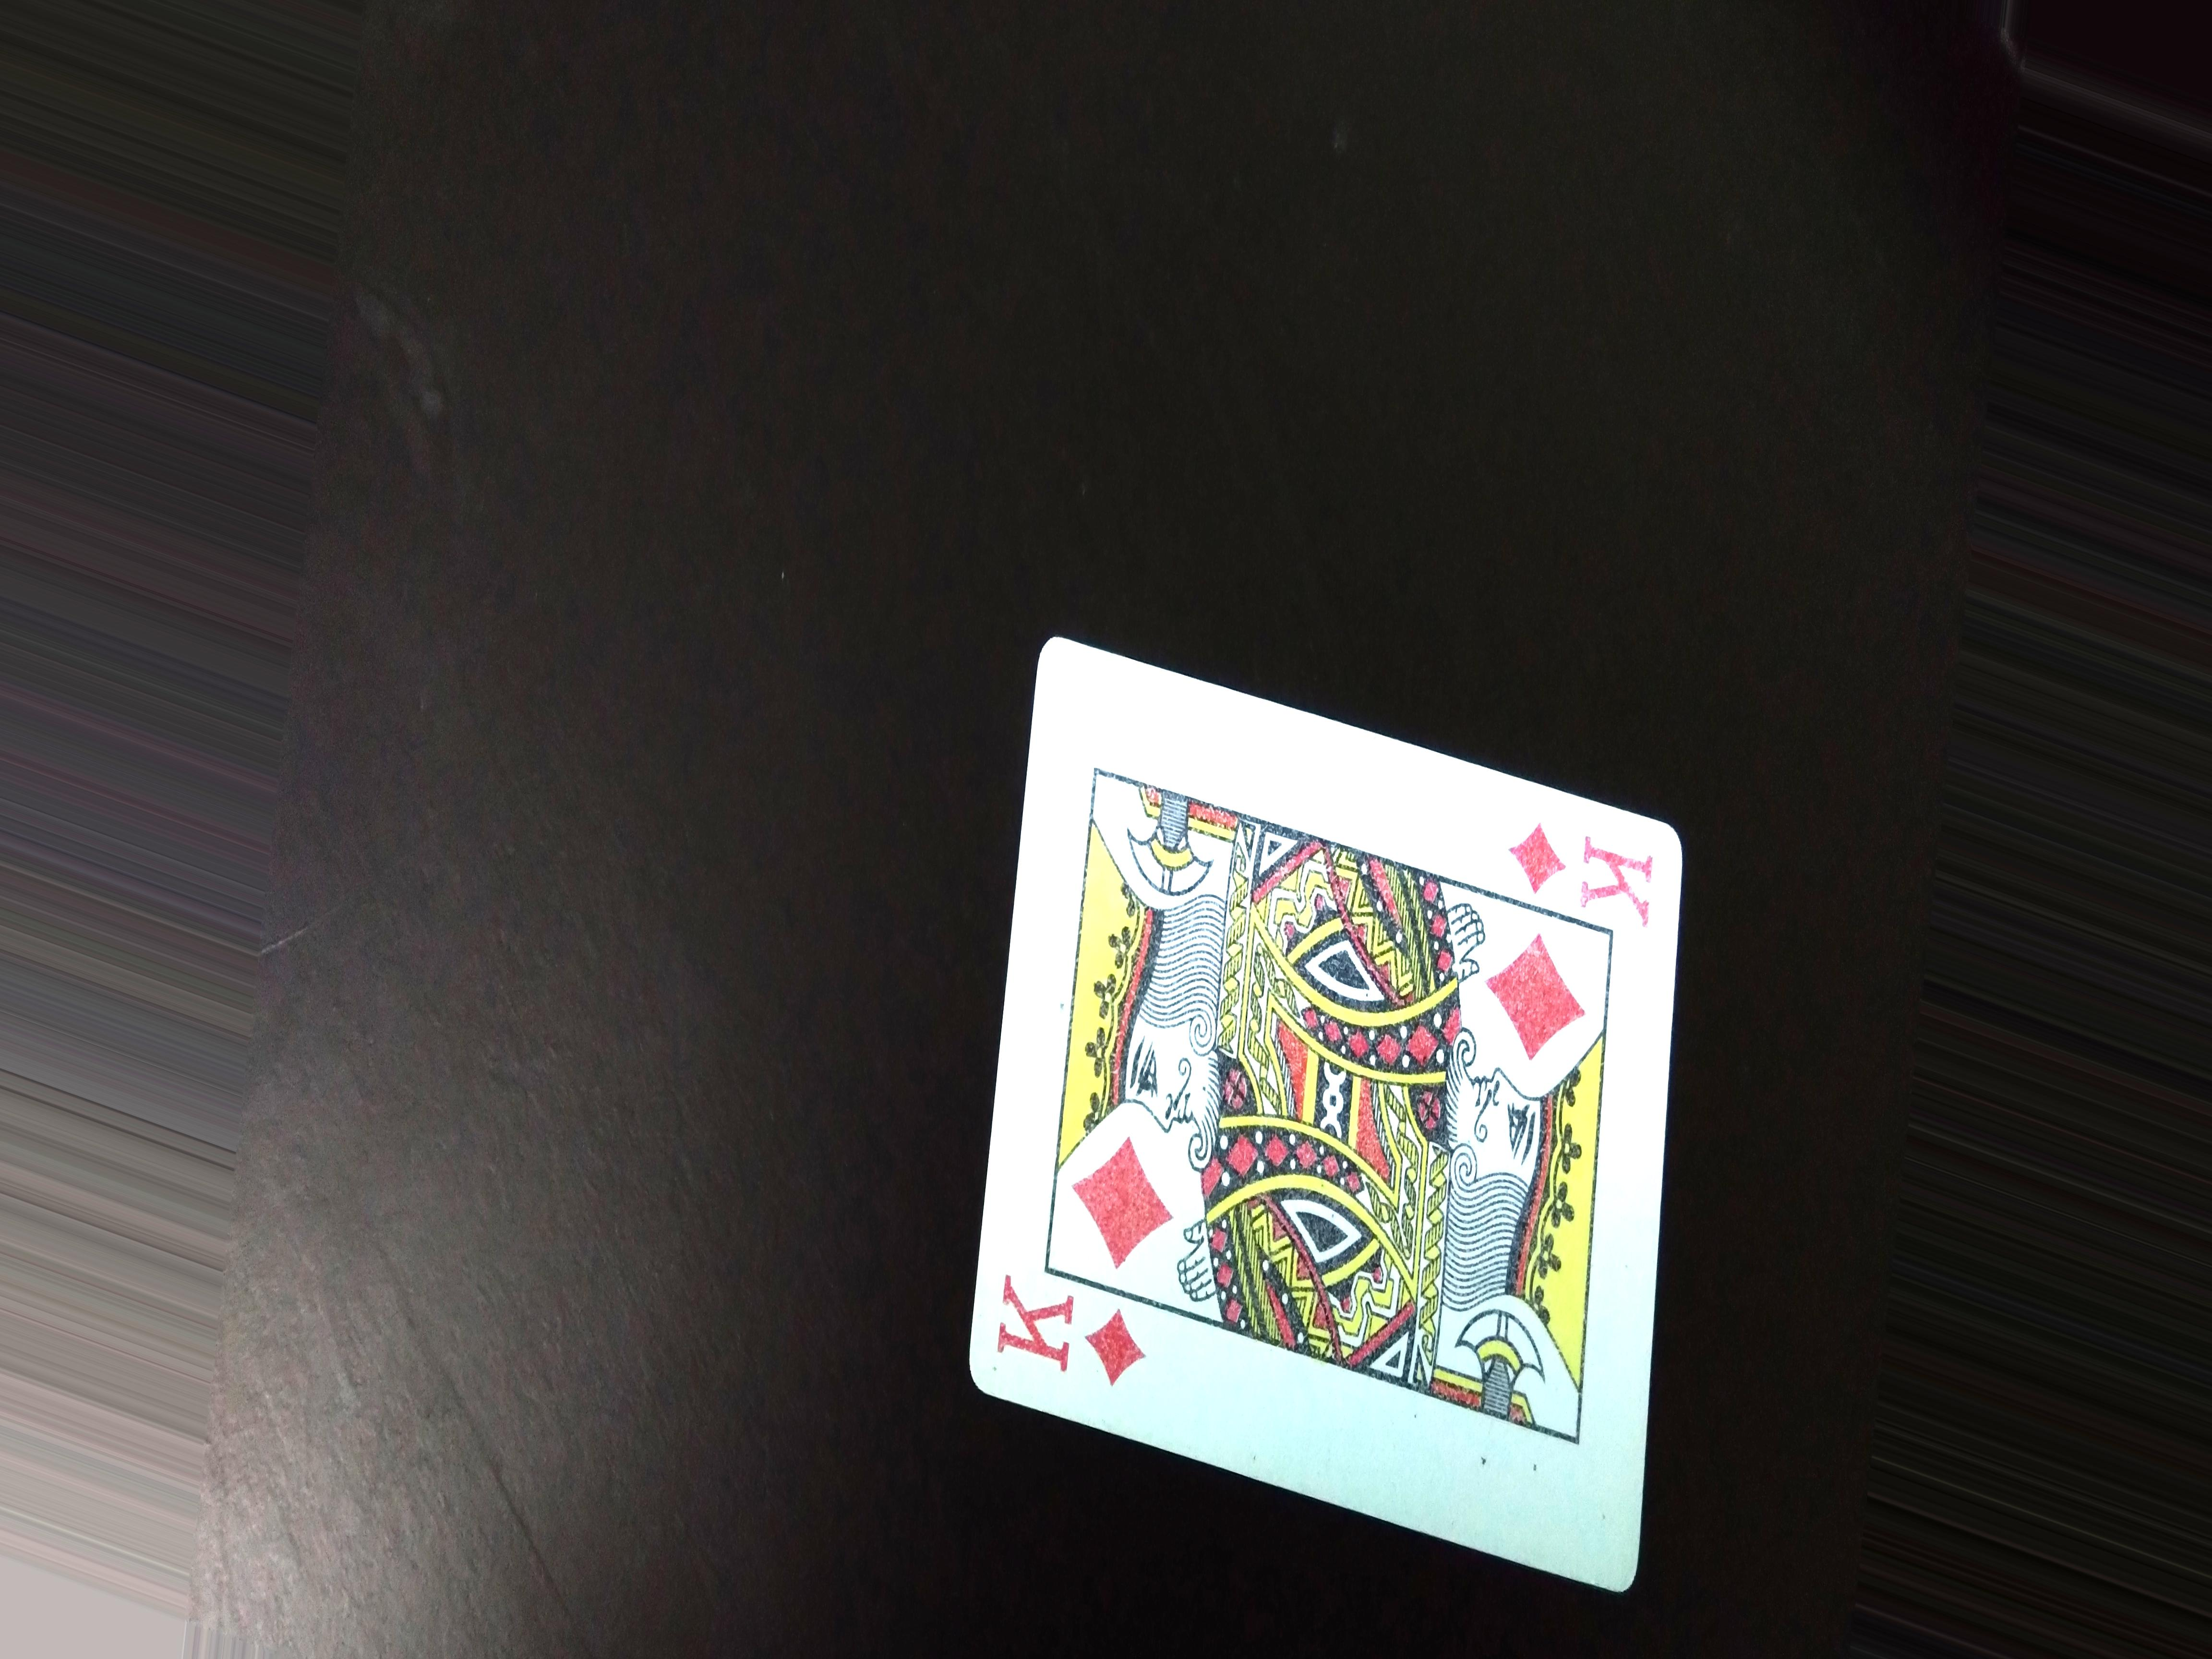KD: (1512, 810, 1670, 927)
